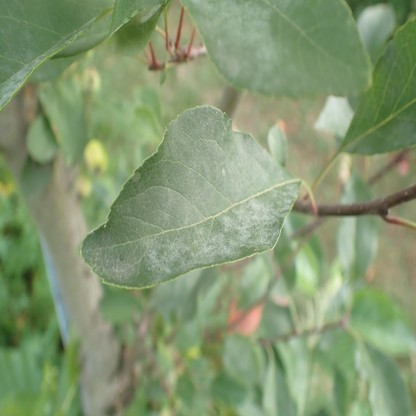powder: (79, 104, 302, 291), (1, 1, 115, 109), (181, 0, 297, 92), (356, 111, 416, 154)
